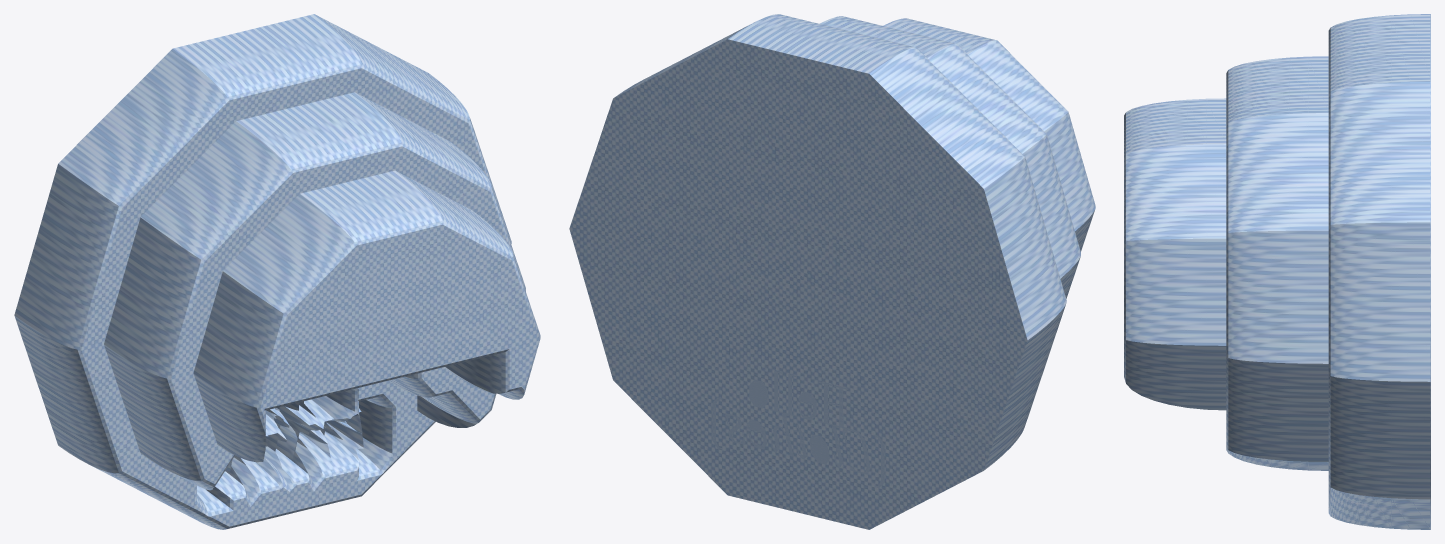
File: clothes2.gltf
3 renders of one model, left to right at view 1: azimuth 30°, elevation 25°; view 2: azimuth 150°, elevation 25°; view 3: azimuth 270°, elevation 25°, orthographic.
Size of the model in its own units: 0.187 by 0.1779 by 0.1103.
Materials: 1 (1 with a texture image).
